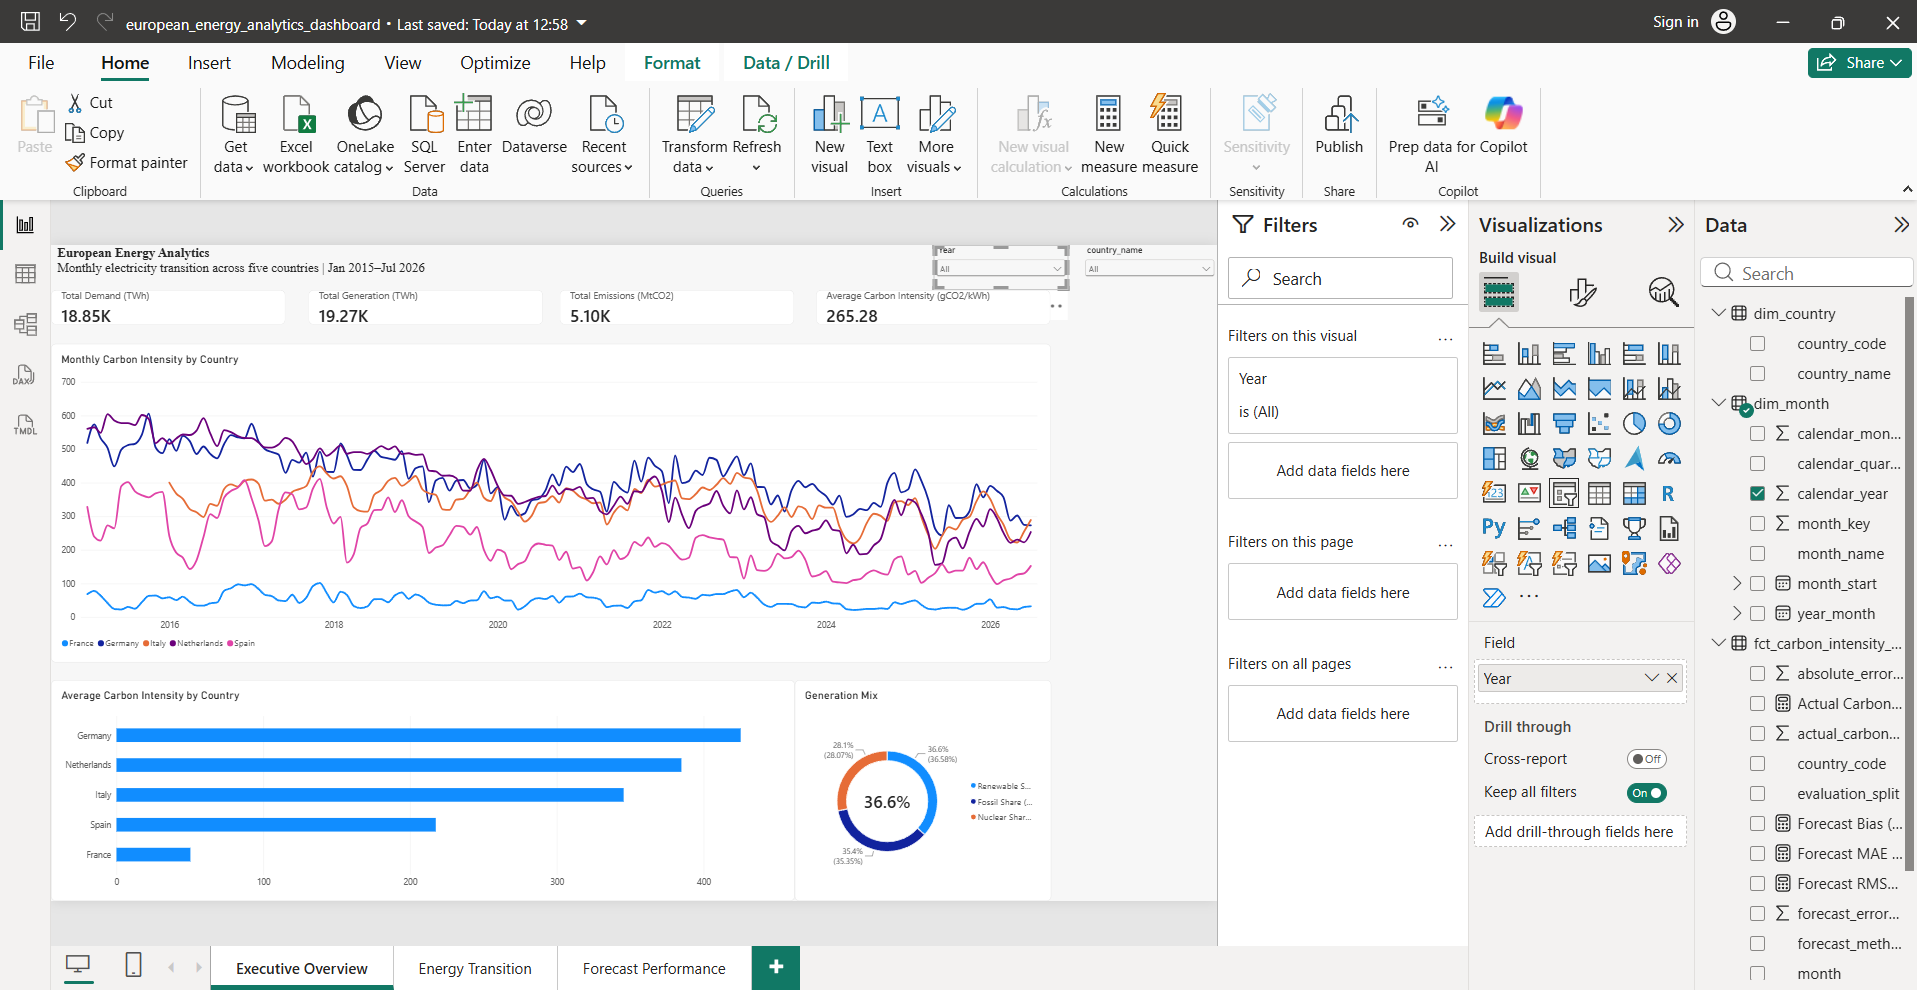

The page's visual inventory and layout, read from the dashboard file:
{"tool":"powerbi","page":{"name":"Executive Overview","canvas":[1920,1080],"ordinal":0},"visuals":[{"type":"textbox","box":[10.3,0,1280.3,74.1],"z":0},{"type":"slicer","fields":{"Values":["dim_country.country_name"]},"box":[1698.1,0,222.3,74.1],"z":1000},{"type":"slicer","fields":{"Values":["dim_month.calendar_year"]},"box":[1453.2,0,222.3,74.1],"z":2000},{"type":"cardVisual","fields":{"Data":["fct_country_monthly_energy.Total Demand (TWh)"]},"box":[0,74.1,387,57.6],"z":3000},{"type":"cardVisual","fields":{"Data":["fct_country_monthly_energy.Total Generation (TWh)"]},"box":[424,74.1,387,57.6],"z":4000},{"type":"cardVisual","fields":{"Data":["fct_country_monthly_energy.Total Emissions (MtCO2)"]},"box":[837.7,74.1,387,57.6],"z":5000},{"type":"cardVisual","fields":{"Data":["fct_country_monthly_energy.Average Carbon Intensity (gCO2/kWh)"]},"box":[1259.7,74.1,387,57.6],"z":6000},{"type":"lineChart","title":"Monthly Carbon Intensity by Country","fields":{"Category":["dim_month.month_start"],"Series":["dim_country.country_name"],"Y":["fct_country_monthly_energy.Average Carbon Intensity (gCO2/kWh)"]},"box":[0,162.6,1646.7,524.9],"z":7000},{"type":"clusteredBarChart","title":"Average Carbon Intensity by Country","fields":{"Category":["dim_country.country_name"],"Y":["fct_country_monthly_energy.Average Carbon Intensity (gCO2/kWh)"]},"box":[0,716.3,1224.7,364.3],"z":8000},{"type":"donutChart","title":"Generation Mix","fields":{"Y":["fct_country_monthly_energy.Renewable Share (%)","fct_country_monthly_energy.Fossil Share (%)","fct_country_monthly_energy.Nuclear Share (%)"]},"box":[1225,716,422,364],"z":9000}]}

Visuals, with their boxes on the page's 1920x1080 design canvas (x1, y1, x2, y2). These are canvas units, not pixel positions in the 1917x990 screenshot, which may show the page scaled, cropped or inside an application window:
textbox: <bbox>10, 0, 1291, 74</bbox>
slicer - dim_country.country_name: <bbox>1698, 0, 1920, 74</bbox>
slicer - dim_month.calendar_year: <bbox>1453, 0, 1676, 74</bbox>
cardVisual - fct_country_monthly_energy.Total Demand (TWh): <bbox>0, 74, 387, 132</bbox>
cardVisual - fct_country_monthly_energy.Total Generation (TWh): <bbox>424, 74, 811, 132</bbox>
cardVisual - fct_country_monthly_energy.Total Emissions (MtCO2): <bbox>838, 74, 1225, 132</bbox>
cardVisual - fct_country_monthly_energy.Average Carbon Intensity (gCO2/kWh): <bbox>1260, 74, 1647, 132</bbox>
"Monthly Carbon Intensity by Country" lineChart: <bbox>0, 163, 1647, 688</bbox>
"Average Carbon Intensity by Country" clusteredBarChart: <bbox>0, 716, 1225, 1081</bbox>
"Generation Mix" donutChart: <bbox>1225, 716, 1647, 1080</bbox>
